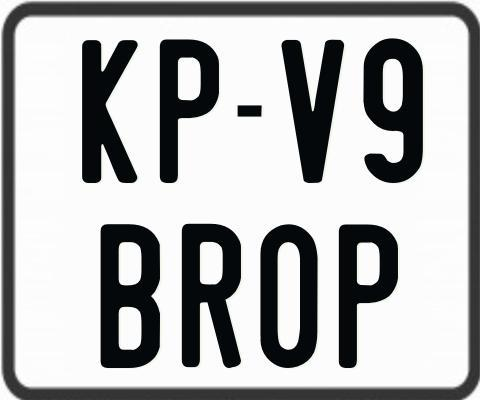0: (260, 222, 324, 371)
9: (361, 35, 423, 182)
B: (100, 224, 162, 368)
K: (82, 40, 138, 187)
P: (337, 221, 398, 366), (159, 36, 218, 182)
R: (179, 221, 239, 370)
V: (282, 38, 350, 185)
